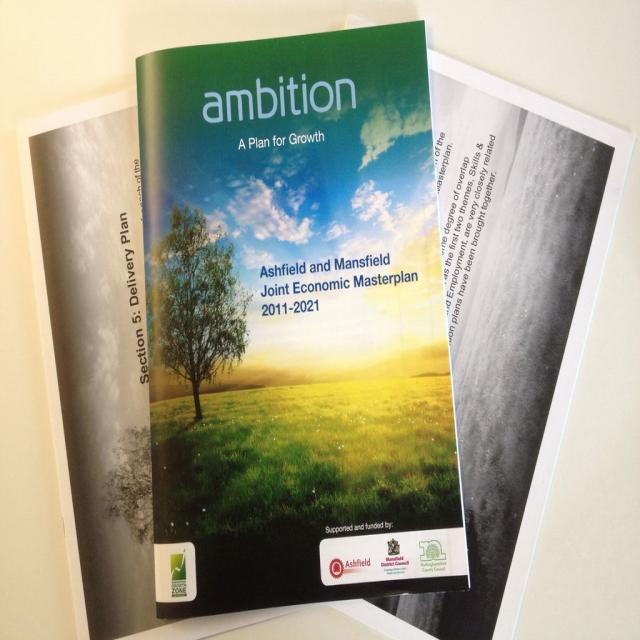book: (94, 16, 531, 605)
